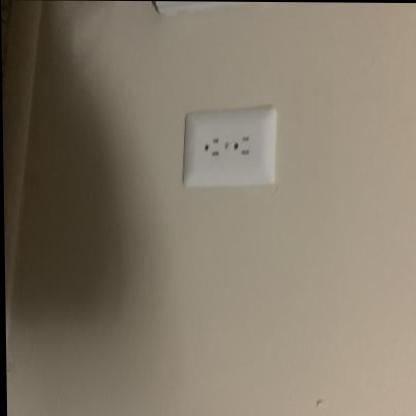OUTLET: (182, 107, 275, 191)
